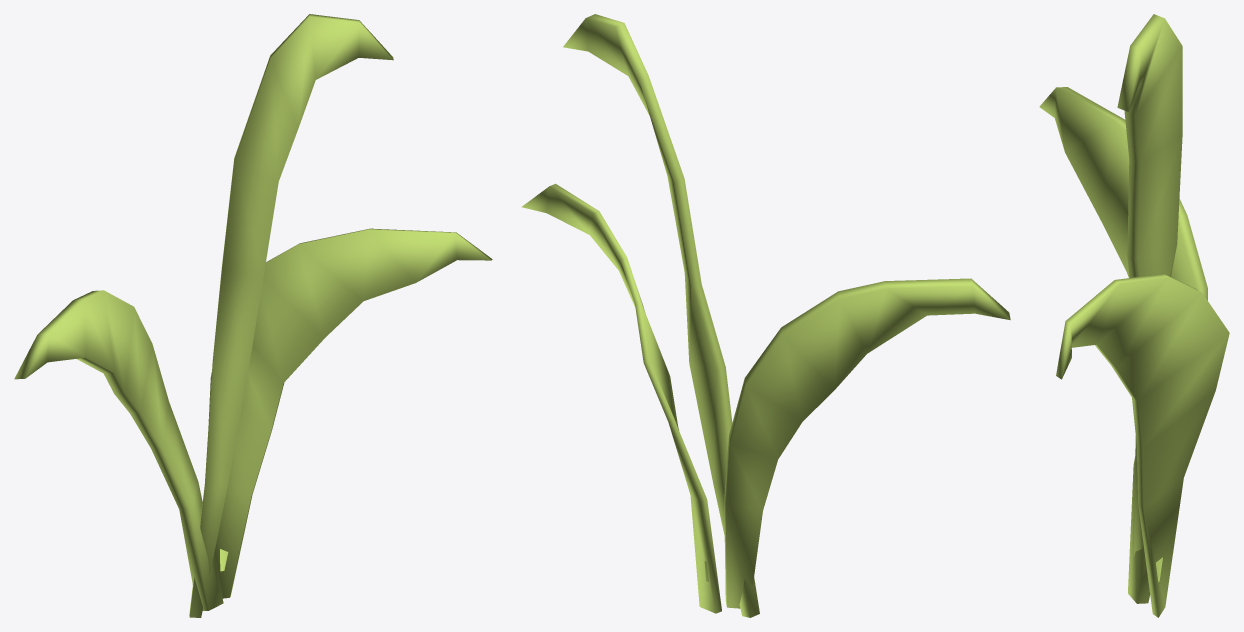
The model's file is shortPlant.glb.
The picture shows the model from 3 angles, left to right: view 1: azimuth 30°, elevation 25°; view 2: azimuth 150°, elevation 25°; view 3: azimuth 270°, elevation 25°; orthographic projection. The views are drawn at different scales.
Visible parts, largest first — view 1: node_id58; view 2: node_id58; view 3: node_id58.
Part boxes in pixels (x1,y1,x2,y2): node_id58: [14, 14, 492, 617]; node_id58: [521, 14, 1010, 617]; node_id58: [1039, 14, 1229, 617].
Size of the model in its own units: 0.1164 by 0.1305 by 0.0345.
Materials: 1 (1 with a texture image).
